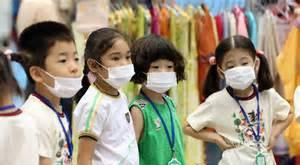OK: (144, 60, 178, 95), (222, 57, 255, 88)
WRONG: (40, 48, 84, 95), (100, 49, 135, 87)
